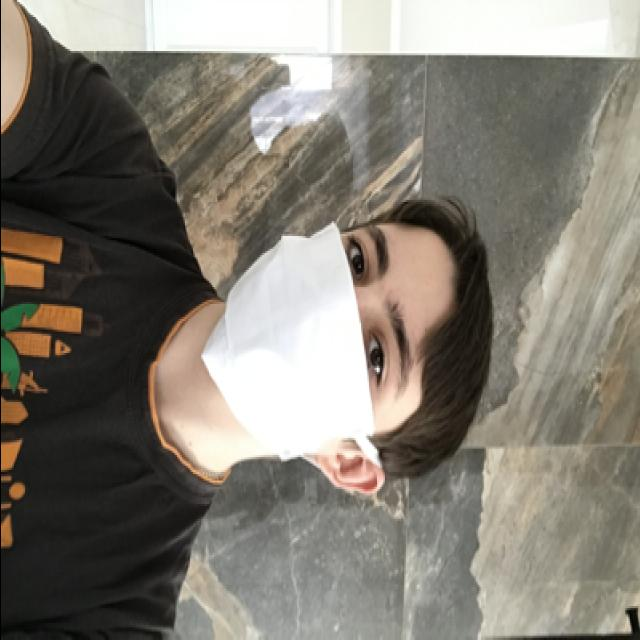with_mask: (200, 219, 421, 461)
